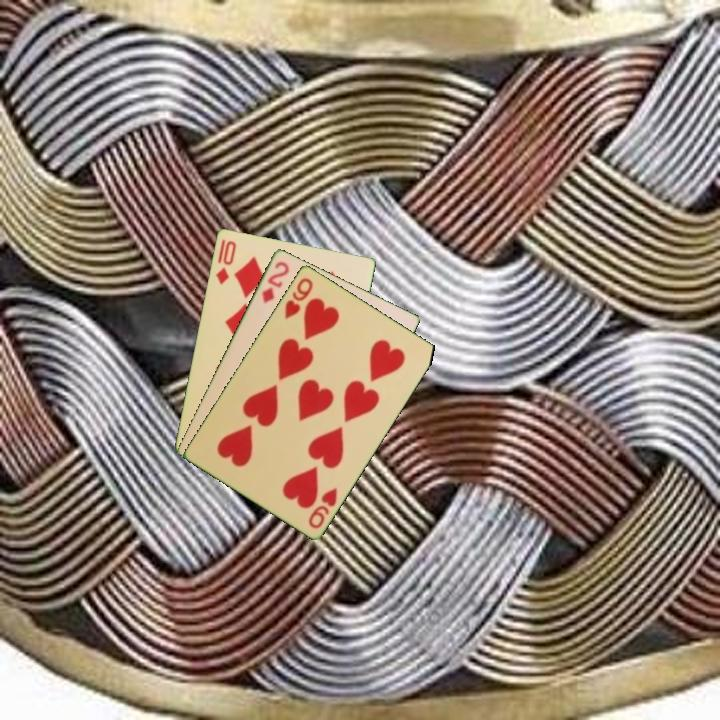10d: (212, 235, 239, 287)
2d: (258, 257, 292, 306)
9h: (304, 484, 340, 531), (281, 274, 316, 321)
